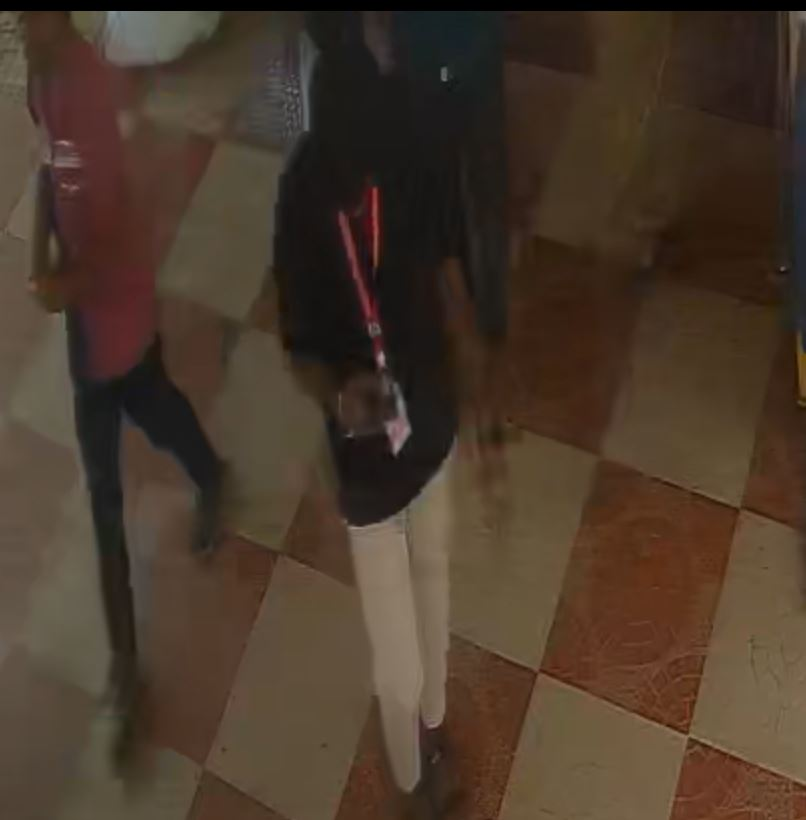intruder: (273, 43, 494, 820)
